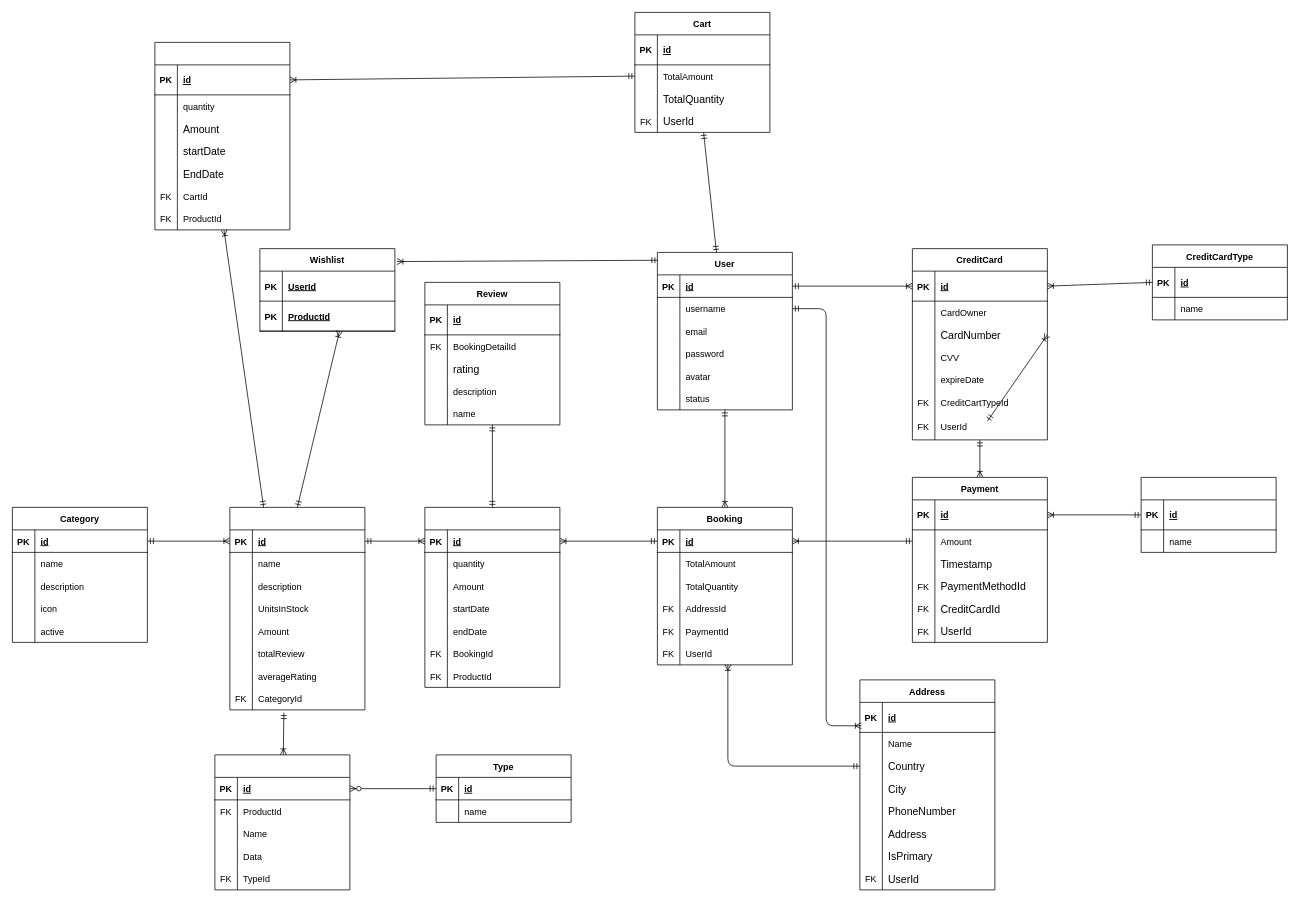
This 1300x902 diagram has some shape labels left out. Each missing label, with the box of its shape:
BookingItem: (424, 507, 560, 687)
CartItem: (154, 42, 290, 230)
Image: (214, 754, 350, 890)
PaymentMethod: (1140, 477, 1276, 552)
Product: (229, 507, 365, 710)
